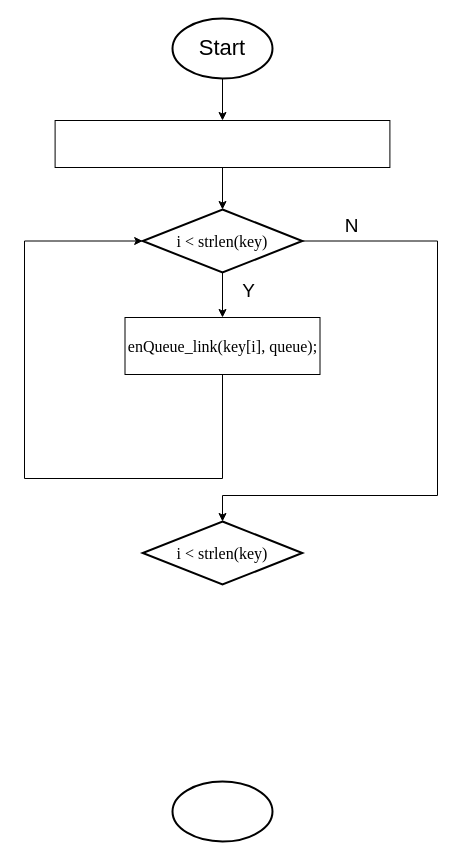
Image size: 463x859. Some labels were removed from this diagram. The box of each missing label's shape, as (x1, y1, x2, y2) in pixels:
auto head_node = createEmptyQueue_link();: (54, 120, 390, 168)
End: (171, 780, 273, 842)
